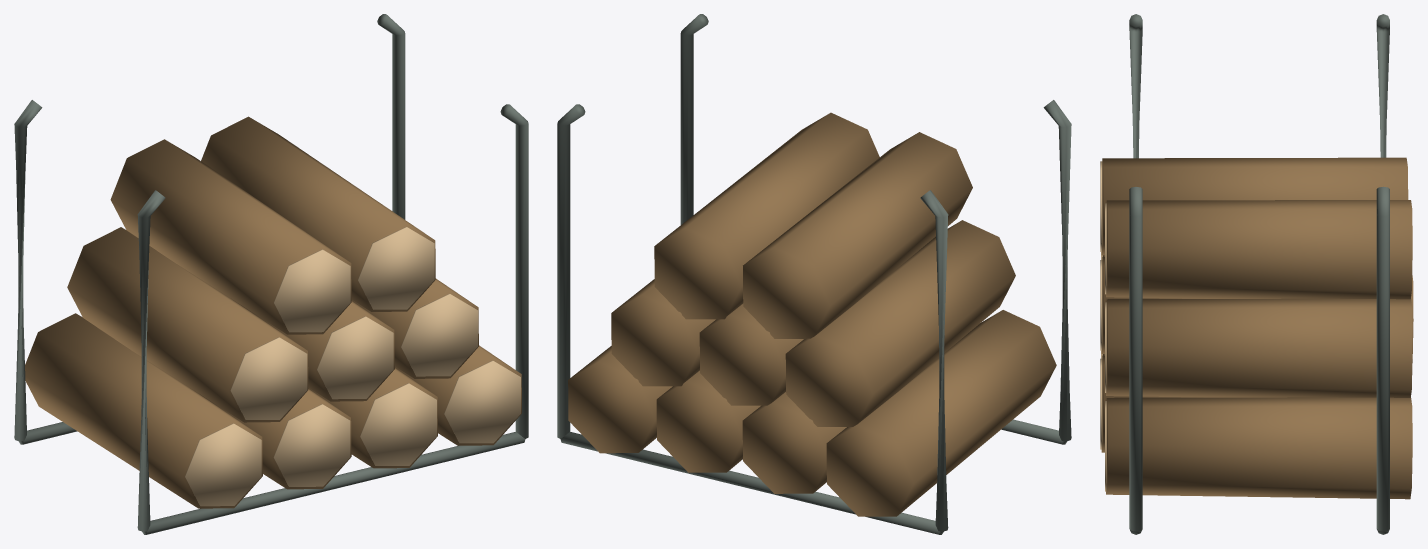
Rendered from log_stack.glb.
3 views of the same model, side by side, from view 1: azimuth 30°, elevation 25°; view 2: azimuth 150°, elevation 25°; view 3: azimuth 270°, elevation 25° (orthographic).
Visible parts, largest first — view 1: log_stack__bark, log_stack__endgrain, log_stack__body; view 2: log_stack__bark, log_stack__body; view 3: log_stack__bark, log_stack__body, log_stack__endgrain.
Part boxes in pixels (x1,y1,x2,y2): log_stack__bark: [25, 116, 521, 508]; log_stack__endgrain: [185, 226, 520, 506]; log_stack__body: [14, 14, 528, 534]; log_stack__bark: [568, 112, 1056, 516]; log_stack__body: [557, 14, 1071, 534]; log_stack__bark: [1101, 157, 1413, 499]; log_stack__body: [1129, 14, 1389, 534]; log_stack__endgrain: [1100, 161, 1106, 491].
Size of the model in its own units: 0.474 by 0.3969 by 0.3291.
